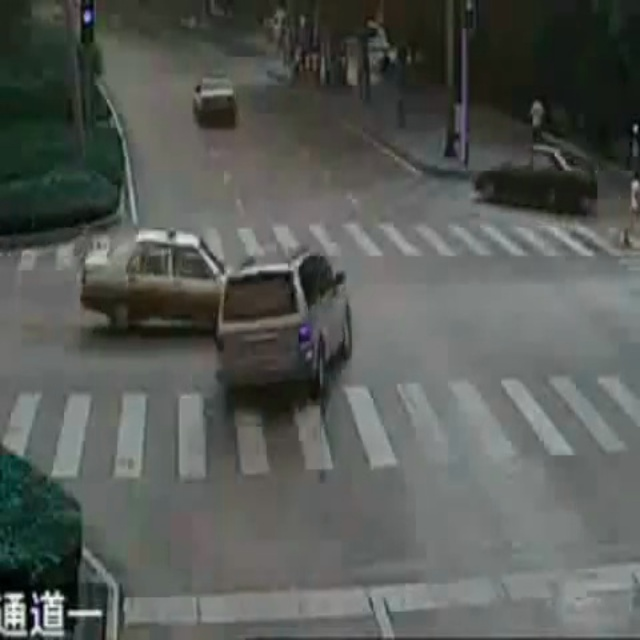acc: (66, 220, 361, 406)
